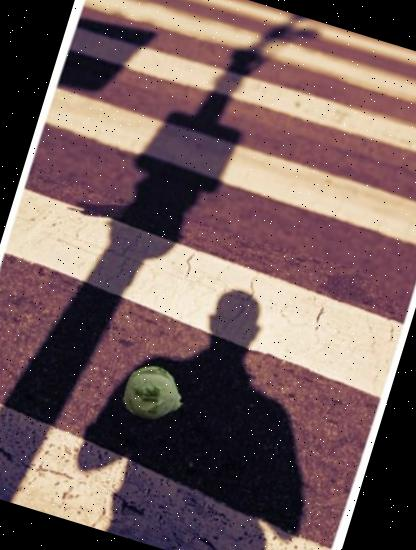Kohlrabi: (116, 355, 192, 431)
